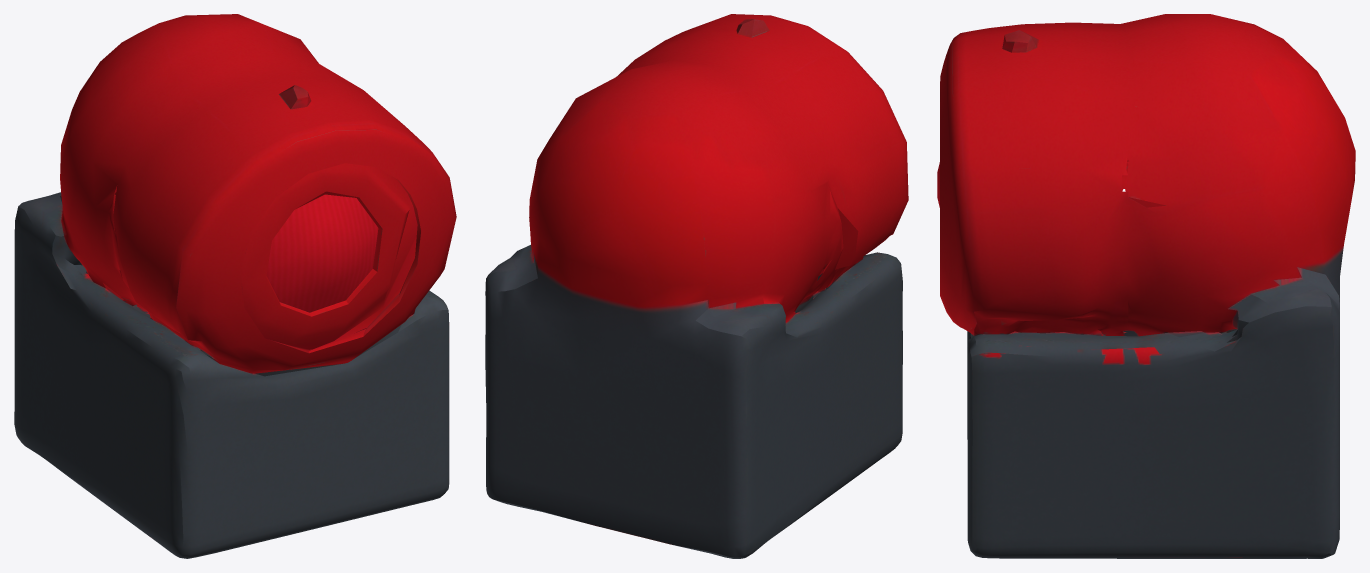
The model's file is alarm_light.glb.
3 views of the same model, side by side, from view 1: azimuth 30°, elevation 25°; view 2: azimuth 150°, elevation 25°; view 3: azimuth 270°, elevation 25° (orthographic). The views are drawn at different scales.
Visible parts, largest first — view 1: Mesh_0; view 2: Mesh_0; view 3: Mesh_0.
Part boxes in pixels (x1=…): Mesh_0: x1=14, y1=14, x2=456, y2=558; Mesh_0: x1=485, y1=14, x2=908, y2=558; Mesh_0: x1=937, y1=14, x2=1355, y2=558.
Size of the model in its own units: 1.31 by 1.89 by 1.55.
Materials: 1 (1 with a texture image).
